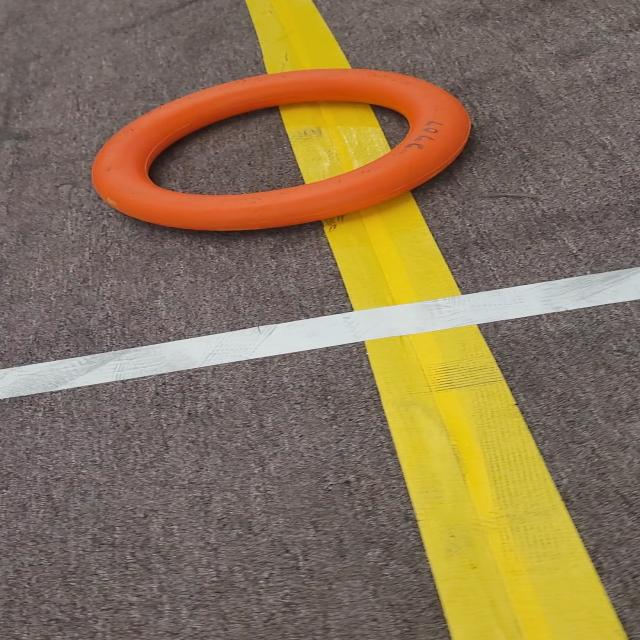note: (77, 61, 506, 253)
